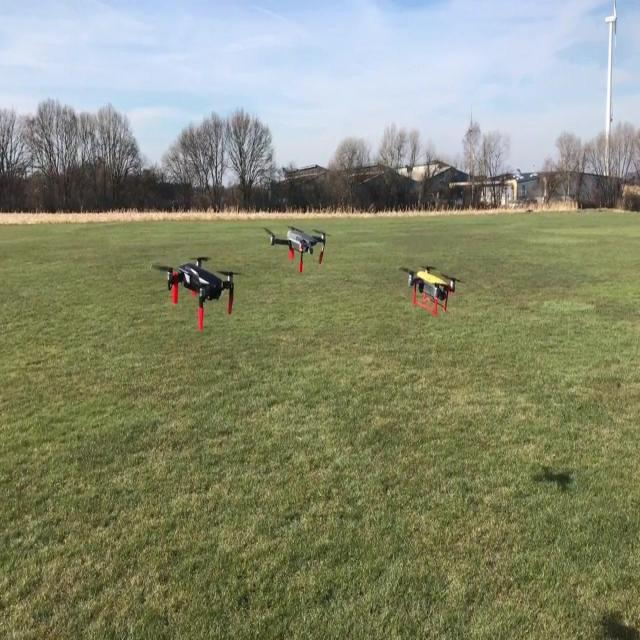drone: (152, 252, 240, 331), (397, 262, 470, 317), (262, 225, 330, 274)
